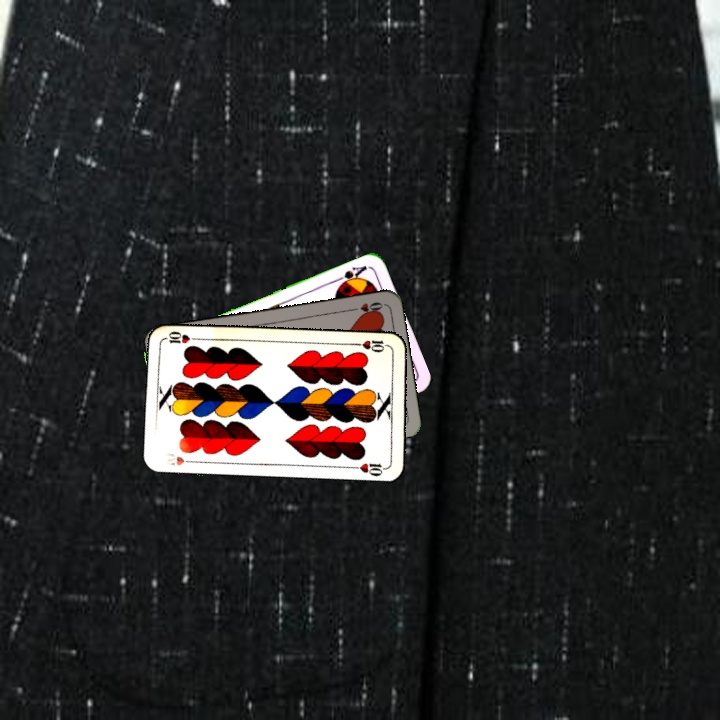H10: (160, 448, 199, 468), (351, 336, 392, 355)
HO: (345, 298, 385, 317)
SA: (332, 261, 370, 290)
